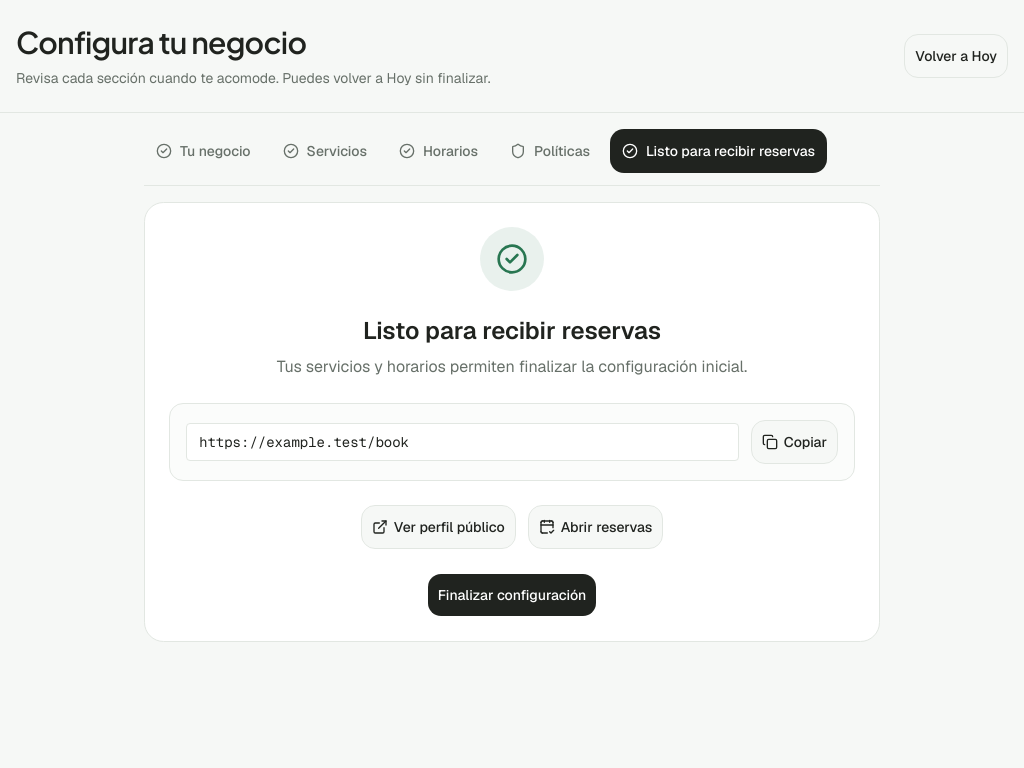
initial setup navigation › does not claim clipboard success after rejection and allows retry
Click the button "Copiar" at point(794, 442), box [751, 420, 838, 464]
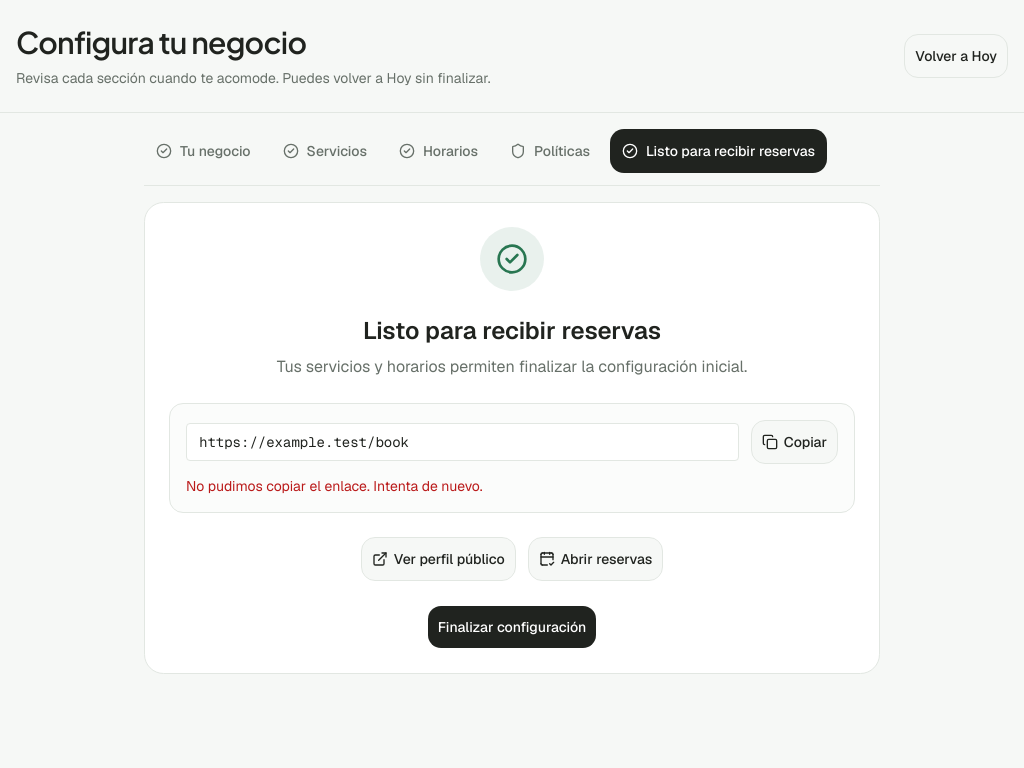
Now the text "No pudimos copiar el enlace" is shown, box [186, 477, 483, 495]
Click the button "Copiar" at point(794, 442), box [751, 420, 838, 464]
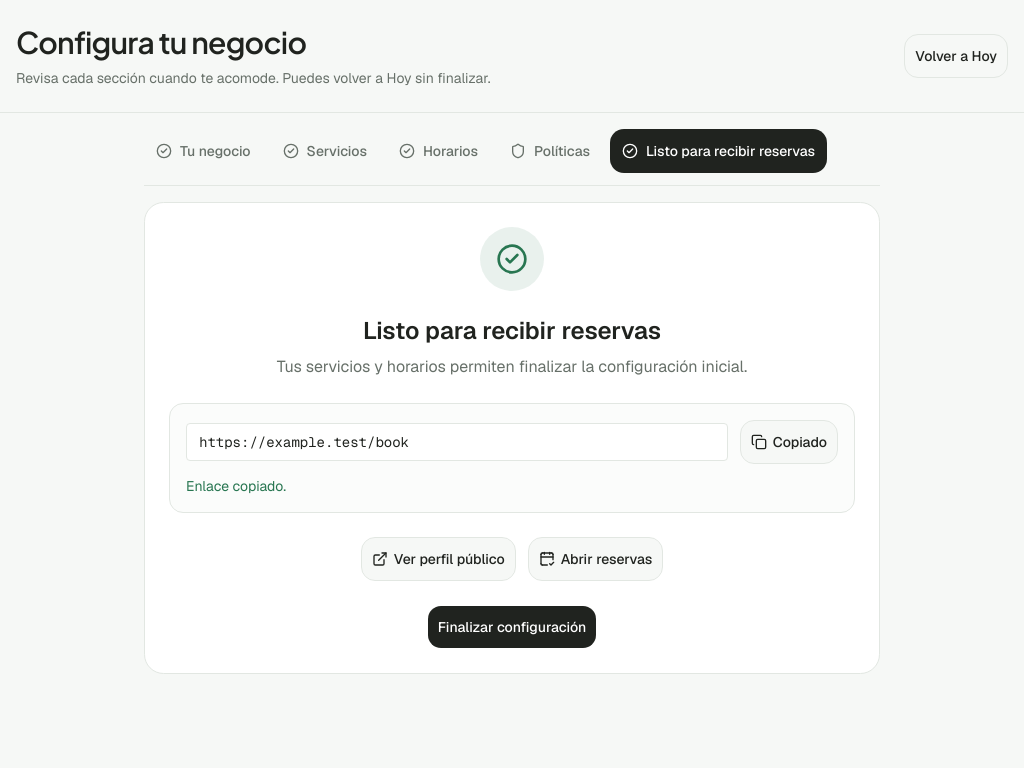
Now the button "Copiado" is shown, box [740, 420, 838, 464]
Now the text "No pudimos copiar el enlace" is gone
